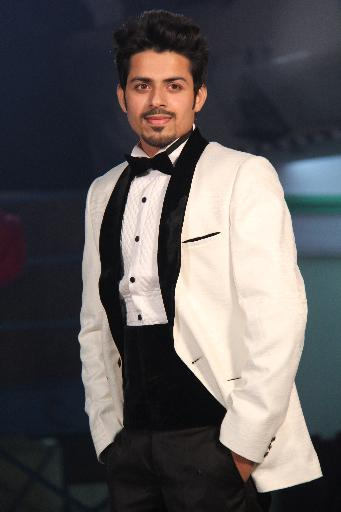left_eye: (168, 82, 186, 92)
left_lip_corner: (170, 113, 178, 122)
right_eye: (134, 80, 151, 92)
right_lip_corner: (141, 114, 150, 122)
